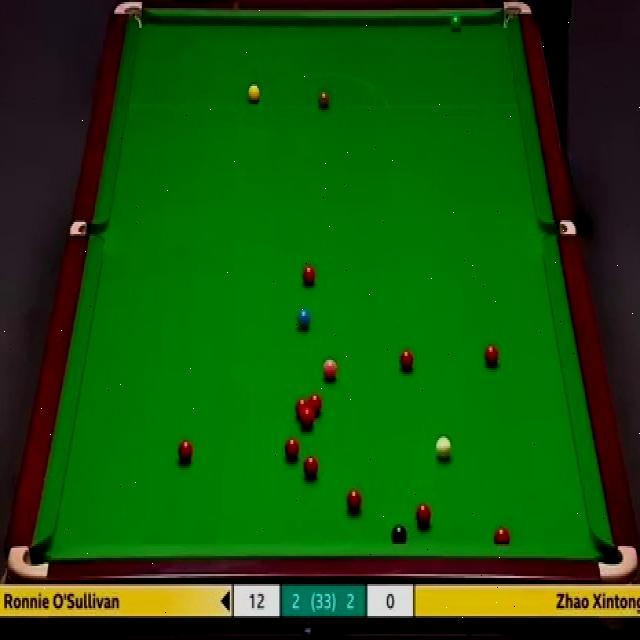black-ball: (392, 523, 408, 545)
blue-ball: (296, 308, 312, 329)
brown-ball: (318, 88, 330, 108)
green-ball: (450, 11, 463, 30)
pink-ball: (322, 359, 339, 384)
red-ball: (173, 440, 196, 465), (344, 486, 362, 514), (303, 451, 320, 480), (302, 264, 320, 291), (398, 346, 415, 373), (415, 504, 432, 530), (281, 439, 301, 461), (484, 344, 498, 369), (294, 398, 308, 422), (309, 393, 322, 418), (493, 526, 511, 543), (300, 411, 316, 430)
white-ball: (434, 434, 452, 458)
yellow-ball: (247, 86, 259, 102)
